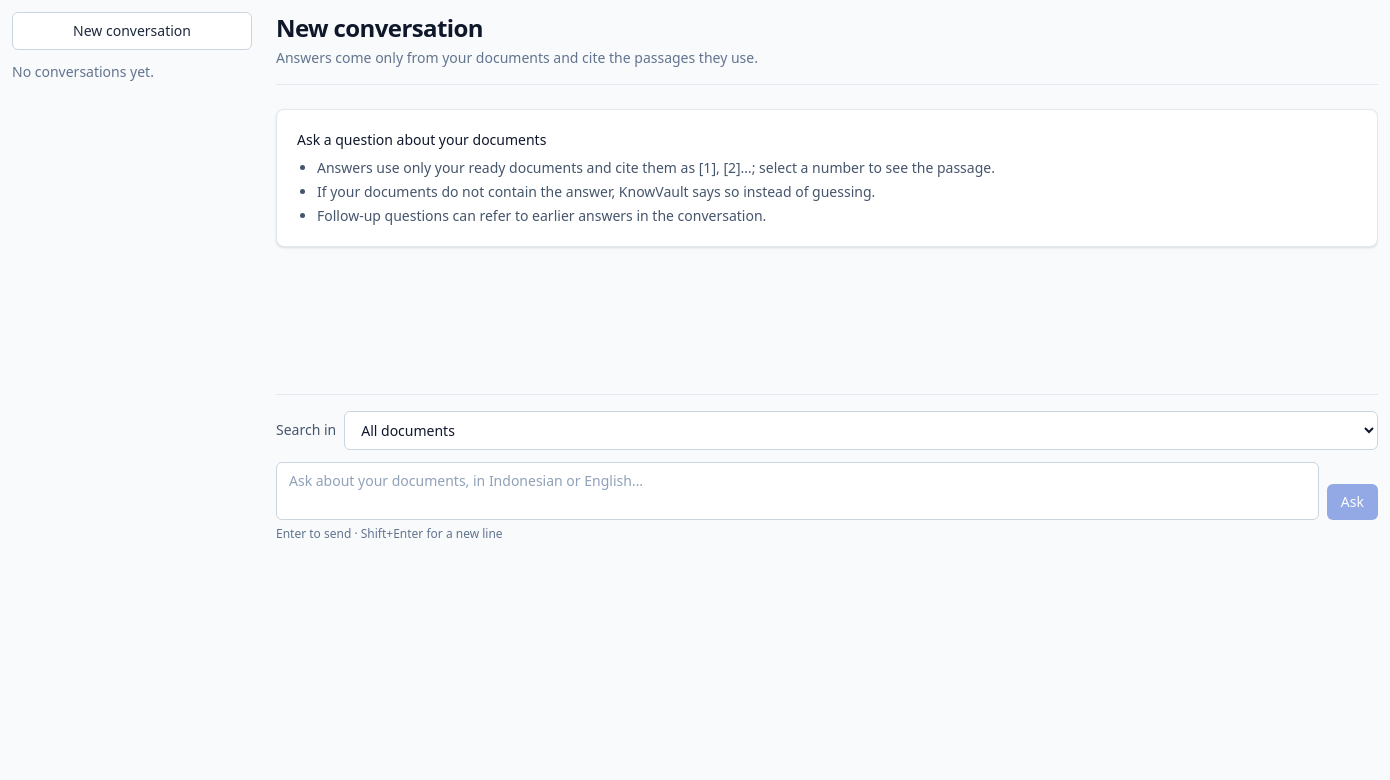
Test: new conversation › puts the question back when it is refused before streaming
The width and height of the screenshot is (1390, 780).
Type "Anything?" into the text box named "Your question" at coordinates (797, 491), box 276,462 -> 1319,520
Then press Enter
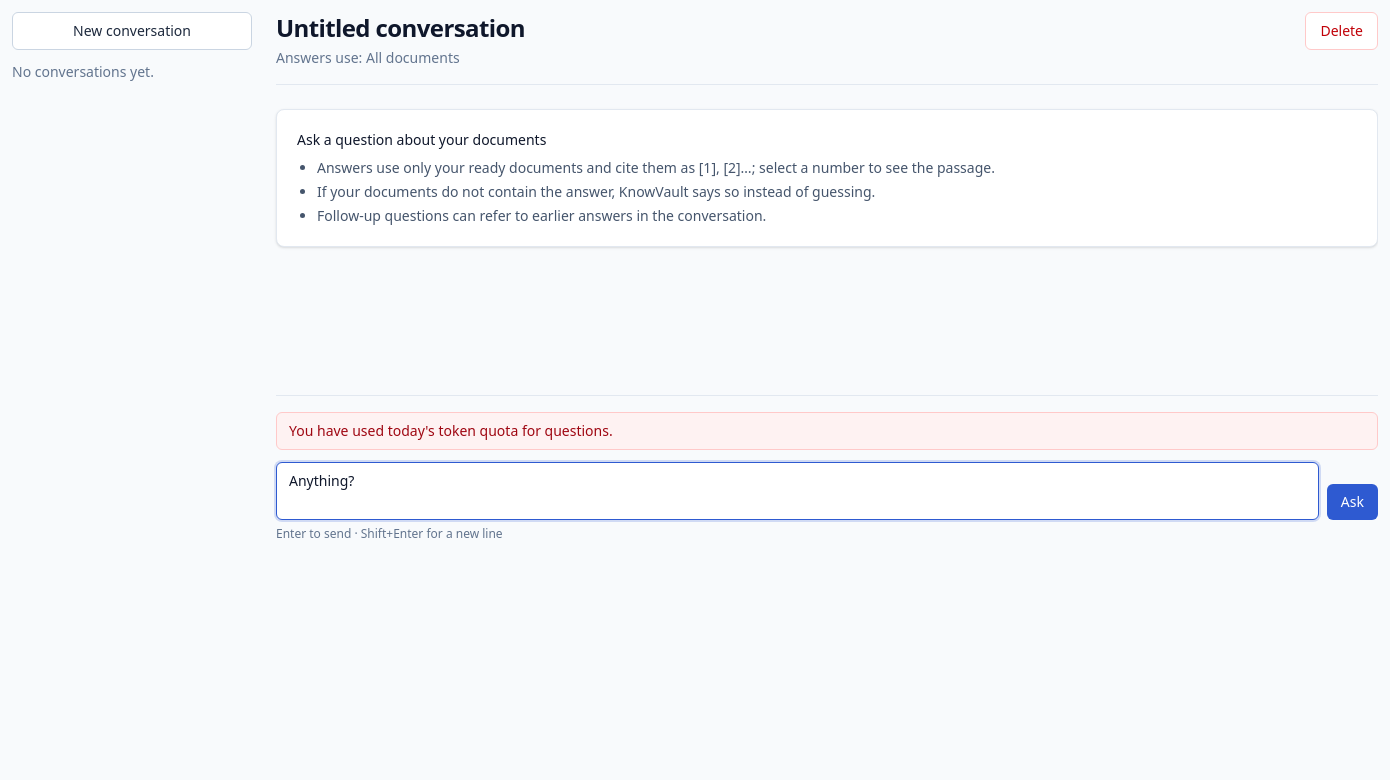
Expected: the message shows "today's token quota", 289,421 -> 613,440
